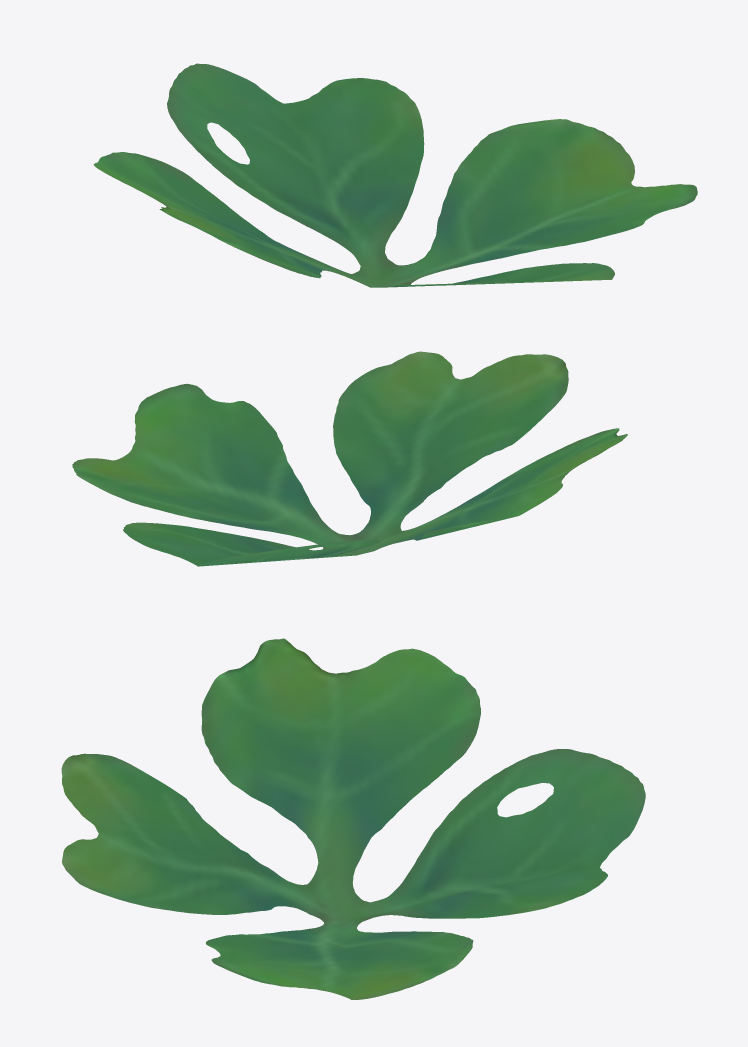
File: SM_Ground_Clover_C.fbx
3 renders of one model, top to bottom at view 1: azimuth 30°, elevation 25°; view 2: azimuth 150°, elevation 25°; view 3: azimuth 270°, elevation 25°, orthographic. The views are drawn at different scales.
Parts seen in each view (by area): view 1: SM_Ground_Clover_C; view 2: SM_Ground_Clover_C; view 3: SM_Ground_Clover_C.
Part boxes in pixels (x1,y1,x2,y2): SM_Ground_Clover_C: (93,63,697,287); SM_Ground_Clover_C: (72,351,627,566); SM_Ground_Clover_C: (61,638,645,999).
Size of the model in its own units: 14.92 by 14.46 by 3.92.
Materials: 1 (1 with a texture image).
